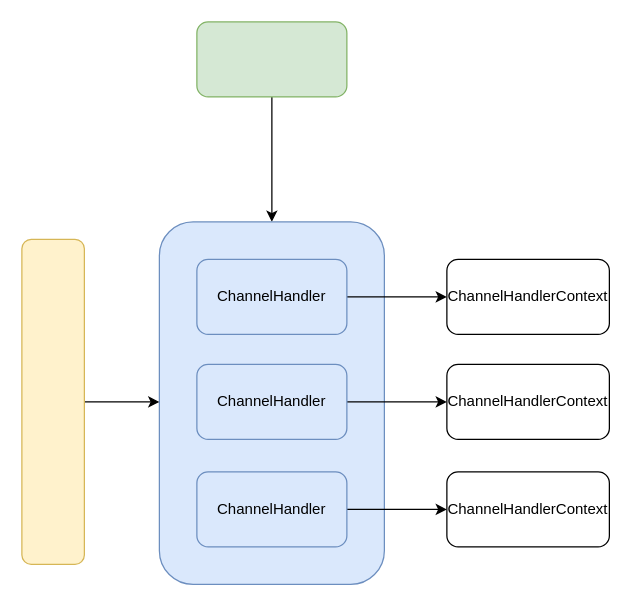
The diagram is 631 pixels wide and 606 high, and some of its shapes have lost their labels. Each missing label, with the centre of its shape:
"Channel" goes at [271,59].
"Channel Handler PipeLine" goes at [52,401].
